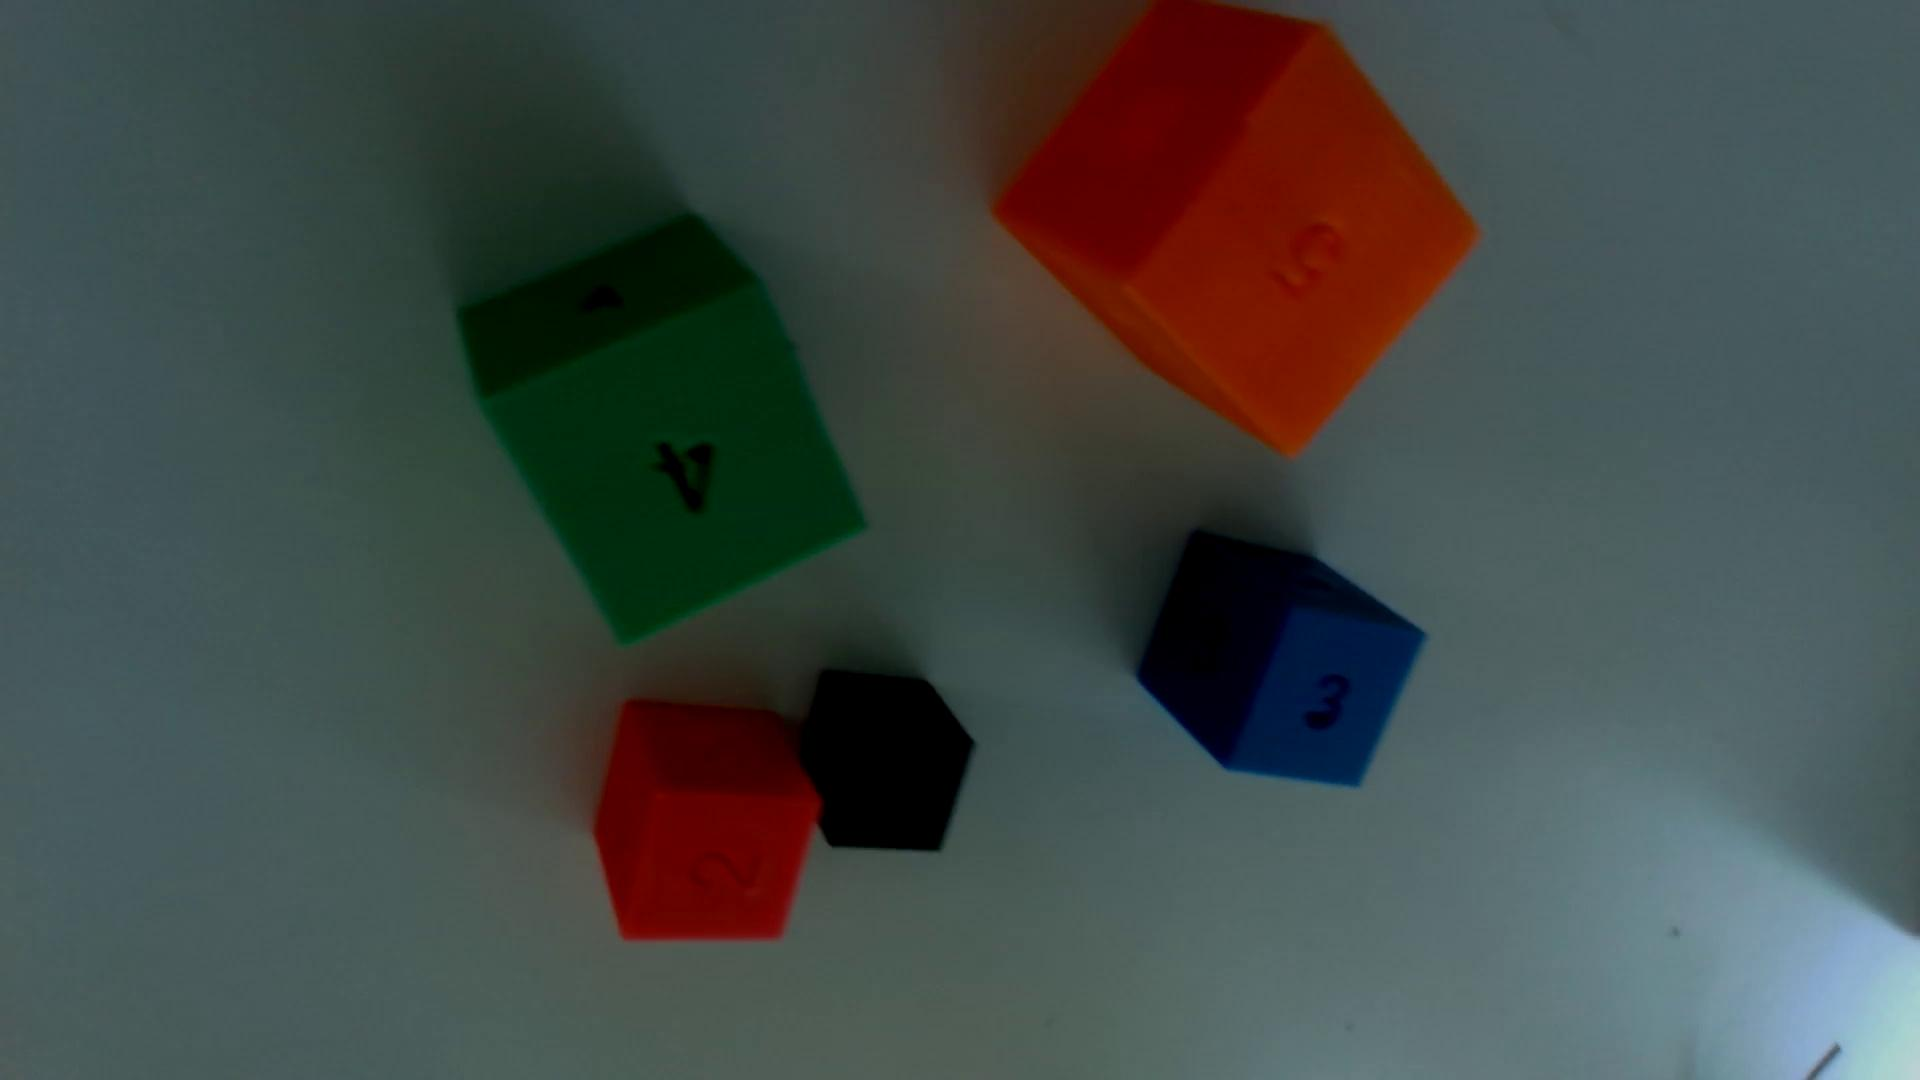black: (803, 670, 975, 851)
blue: (1139, 533, 1424, 785)
green: (462, 216, 862, 640)
orange: (996, 0, 1476, 454)
red: (595, 700, 822, 940)
